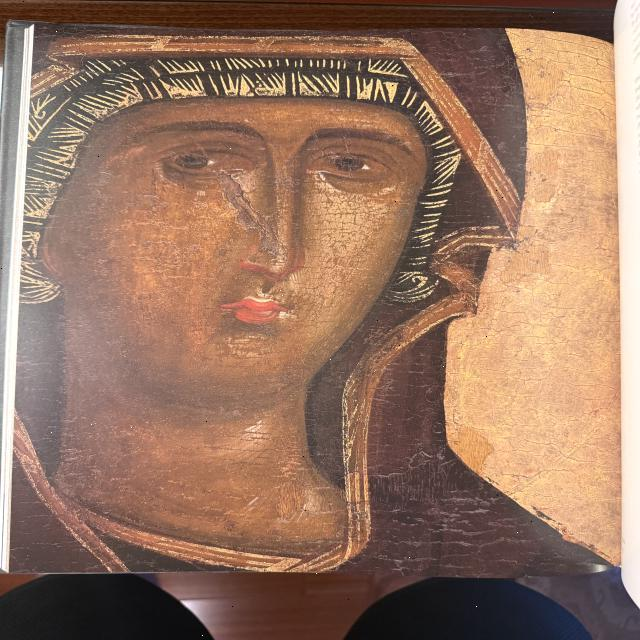mary: (8, 29, 539, 573)
